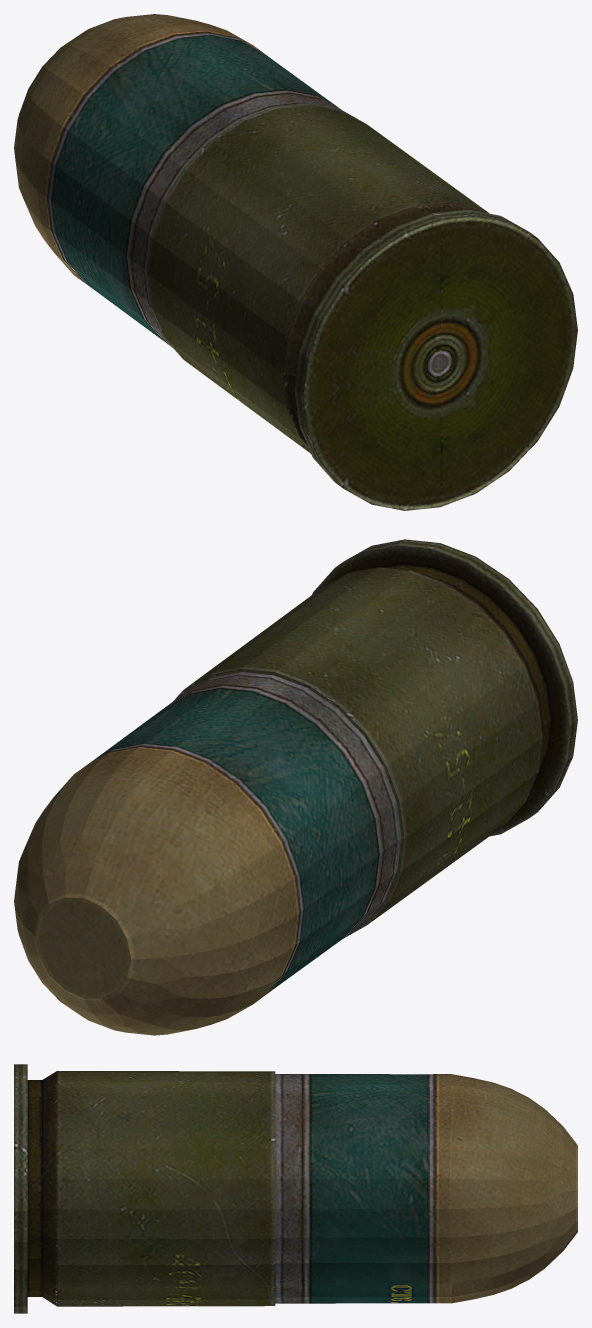
The picture shows the model from 3 angles, top to bottom: view 1: azimuth 30°, elevation 25°; view 2: azimuth 150°, elevation 25°; view 3: azimuth 270°, elevation 25°; orthographic projection. The views are drawn at different scales.
Visible parts, largest first — view 1: TW_5ede47405b097655935d7d16_PZ_Import; view 2: TW_5ede47405b097655935d7d16_PZ_Import; view 3: TW_5ede47405b097655935d7d16_PZ_Import.
Part boxes in pixels (<box>): TW_5ede47405b097655935d7d16_PZ_Import: <box>14,14,577,510</box>; TW_5ede47405b097655935d7d16_PZ_Import: <box>14,539,577,1035</box>; TW_5ede47405b097655935d7d16_PZ_Import: <box>14,1064,577,1313</box>.
Size of the model in its own units: 0.025 by 0.0563 by 0.025.
1 material, 1 textured.
